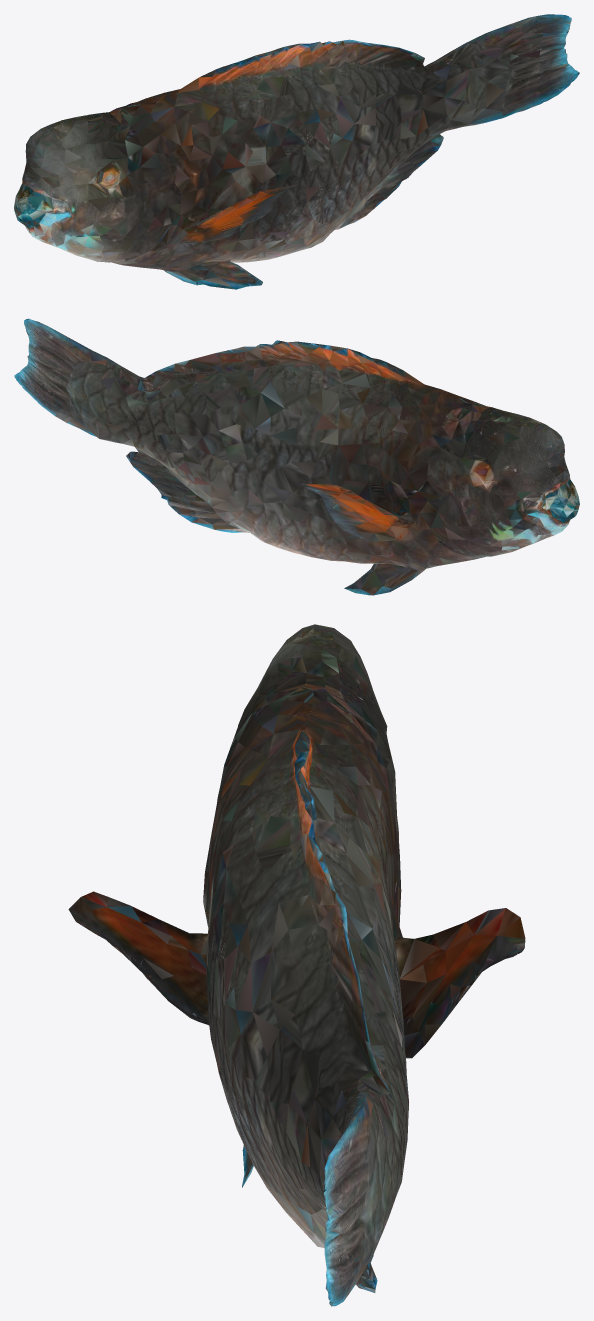
File: parrotfish.glb
3 renders of one model, top to bottom at view 1: azimuth 30°, elevation 25°; view 2: azimuth 150°, elevation 25°; view 3: azimuth 270°, elevation 25°, orthographic. The views are drawn at different scales.
Visible parts, largest first — view 1: body; view 2: body; view 3: body.
Boxes of the visible parts, x1,y1,x2,y2 form: body: [14, 14, 579, 289]; body: [14, 318, 579, 595]; body: [68, 624, 525, 1306].
Bounding box in the file's own units: 1 × 0.3903 × 0.3538.
3 materials, 3 textured.
